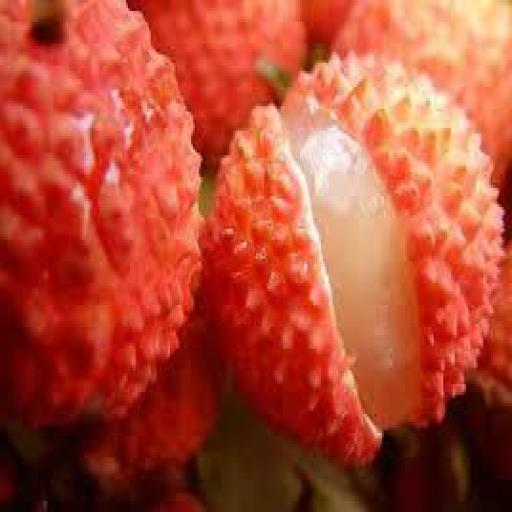lychee: (199, 49, 506, 468), (0, 6, 197, 438)
